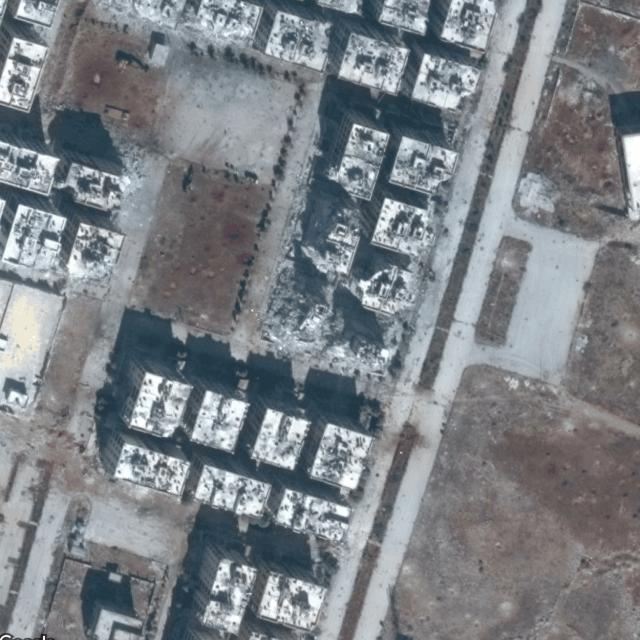damaged_building: (256, 176, 409, 382), (91, 0, 264, 53)
